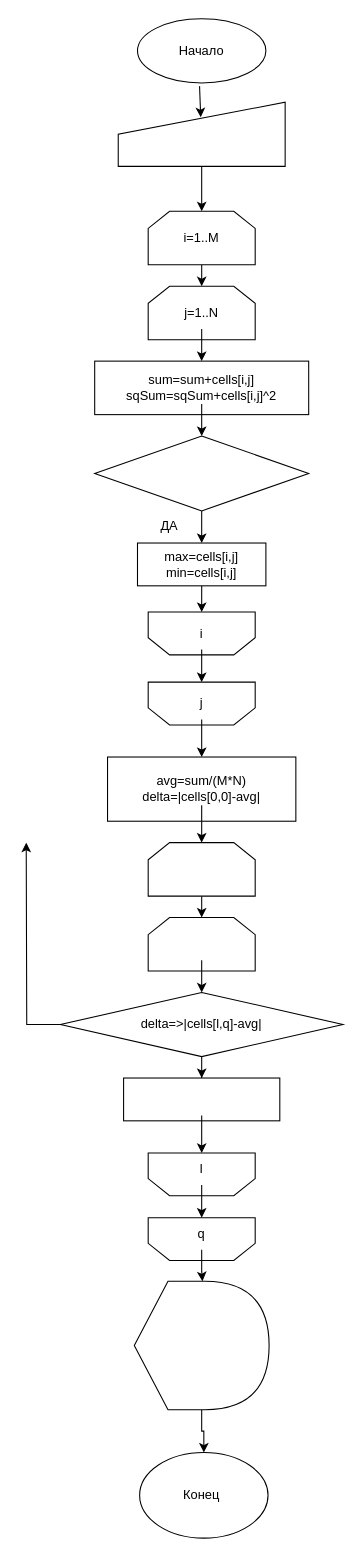
Some shapes in this 362 by 1557 pixel diagram are drawn without their labels. The centre of each missing label's shape, as x and y in pixels:
"delta=|cells[l,q]-avg| approxAvg=cells[l,q]" goes at [201,1099].
"l=1..M" goes at [201,869].
"M, N" goes at [201,133].
"max<=cells[i,j] min=>cells[i,j]" goes at [201,473].
"q=1..N" goes at [201,943].
"sum sqSum max min avg approxAvg" goes at [201,1345].
